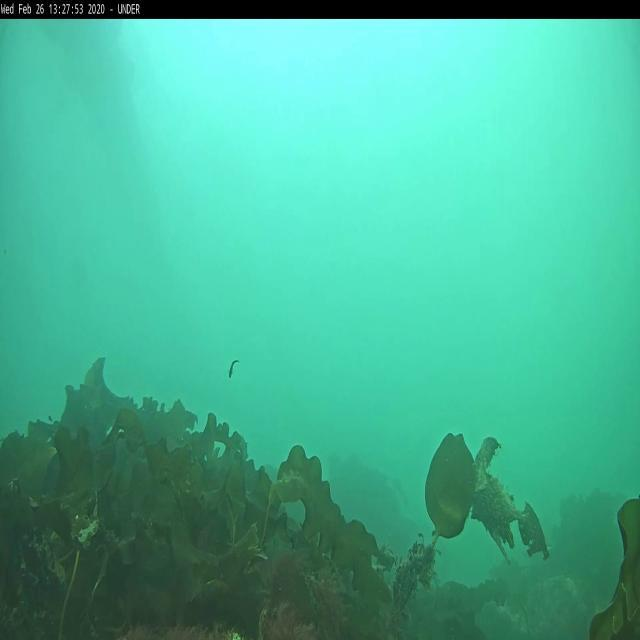fish: (227, 360, 239, 378)
